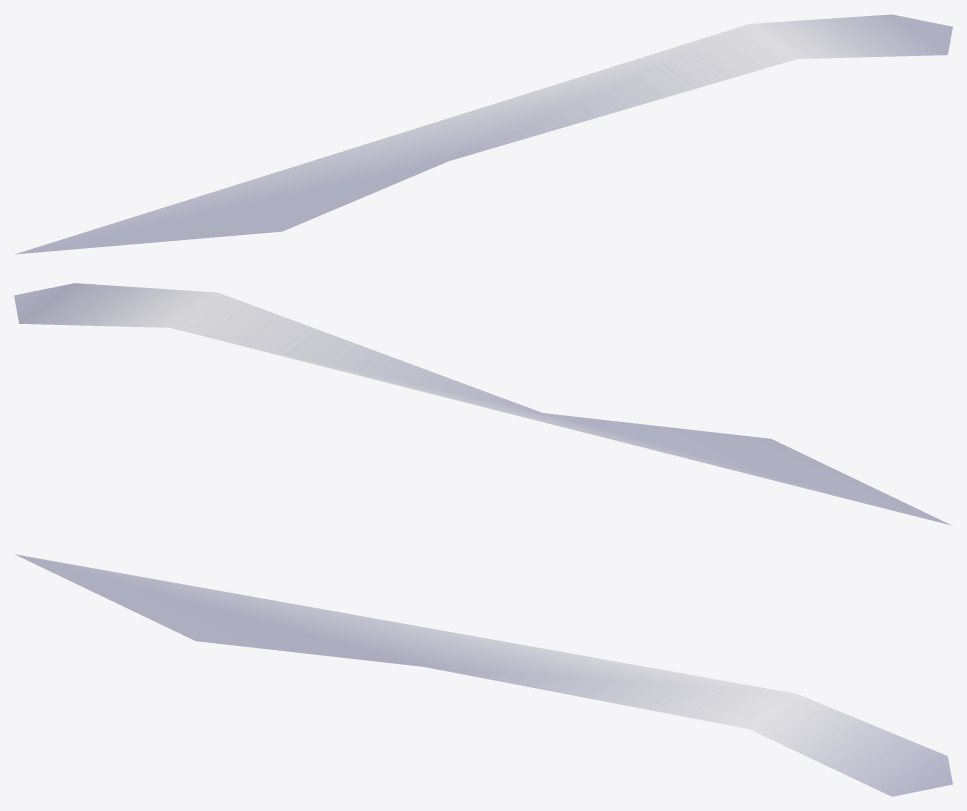
The model's file is cc0-utensil-knife-lod1.glb.
3 views of the same model, one above another, from view 1: azimuth 30°, elevation 25°; view 2: azimuth 150°, elevation 25°; view 3: azimuth 330°, elevation 25° (orthographic).
Parts seen in each view (by area): view 1: part_0; view 2: part_0; view 3: part_0.
Part boxes in pixels (x1,y1,x2,y2): part_0: (14,14,952,254); part_0: (14,283,952,525); part_0: (14,554,952,796).
Bounding box in the file's own units: 0.6008 × 0.0178 × 0.0778.
Materials: 1 (1 with a texture image).
